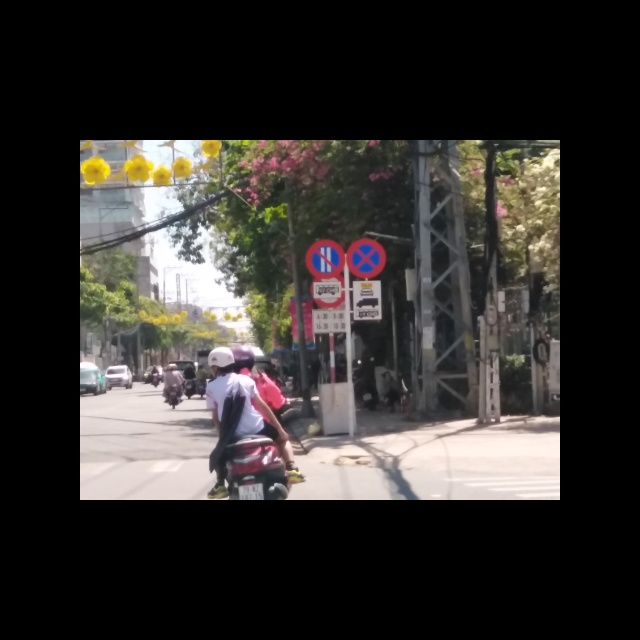Cấm dừng xe và đỗ xe: (345, 238, 386, 279)
Cấm đỗ xe ngày chẵn: (304, 239, 346, 280)
